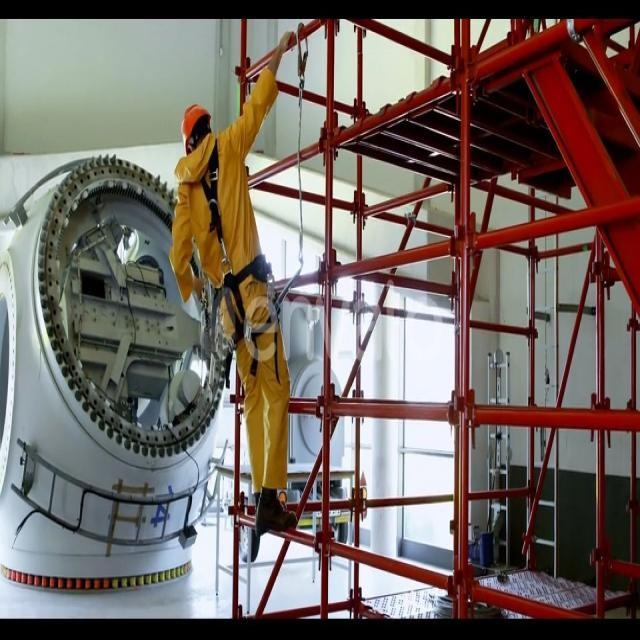Arnes_seguridad: (192, 150, 299, 386)
